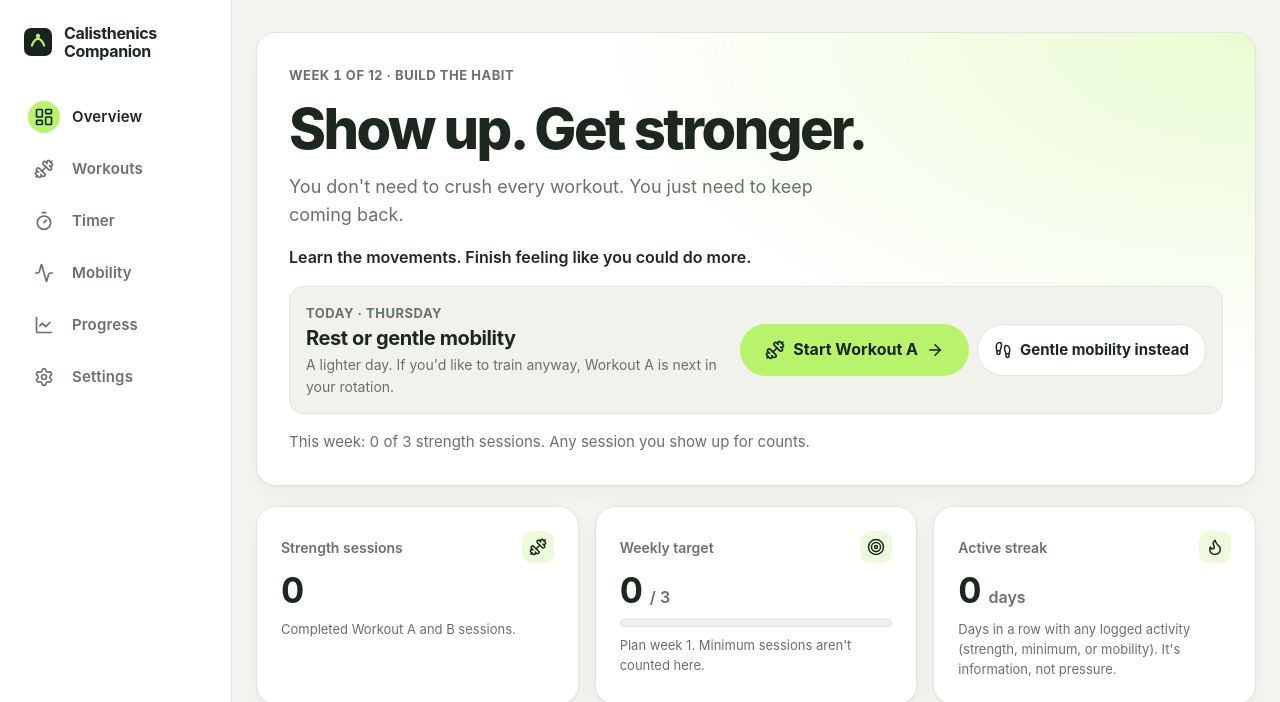
Calisthenics Companion app › tracks a mobility session separately from strength
Click the link "Mobility".
click(83, 273)  # box [34,263,132,283]
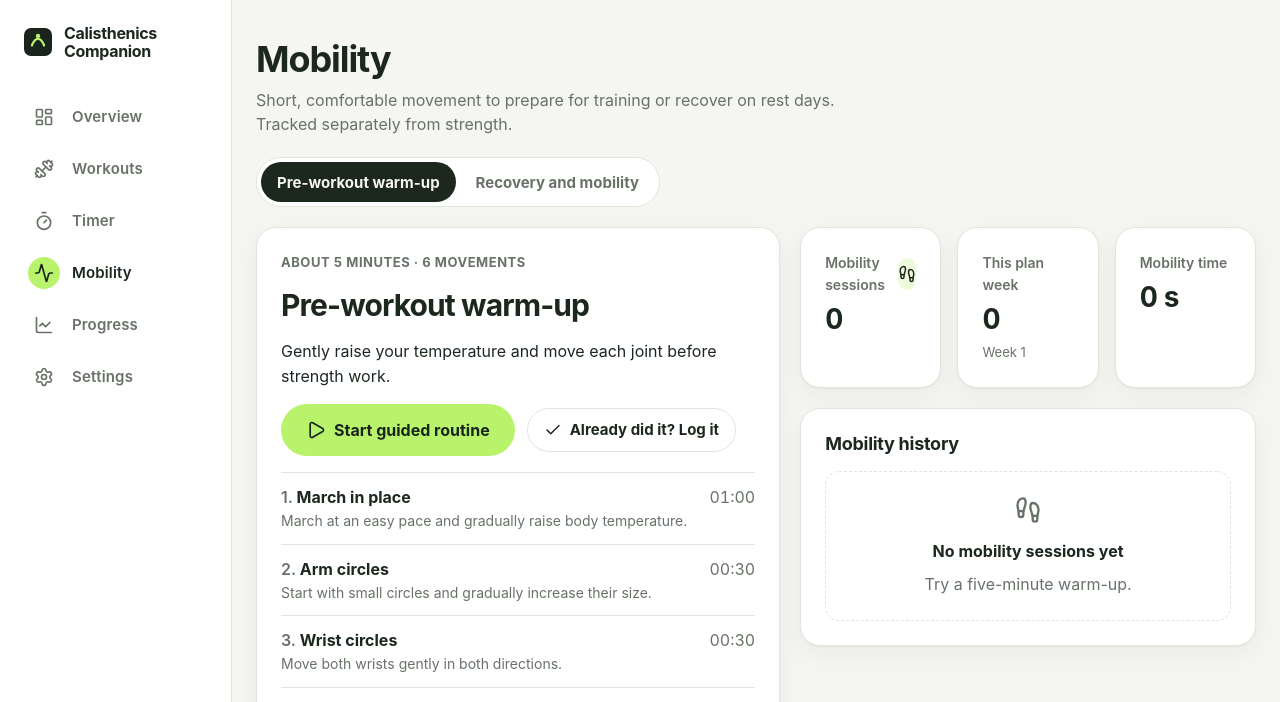
expect the text "No mobility sessions yet" is shown: met, box [933,539,1124,564]
Click the button "Already did it? Log it".
click(631, 430)  # box [527,408,736,452]
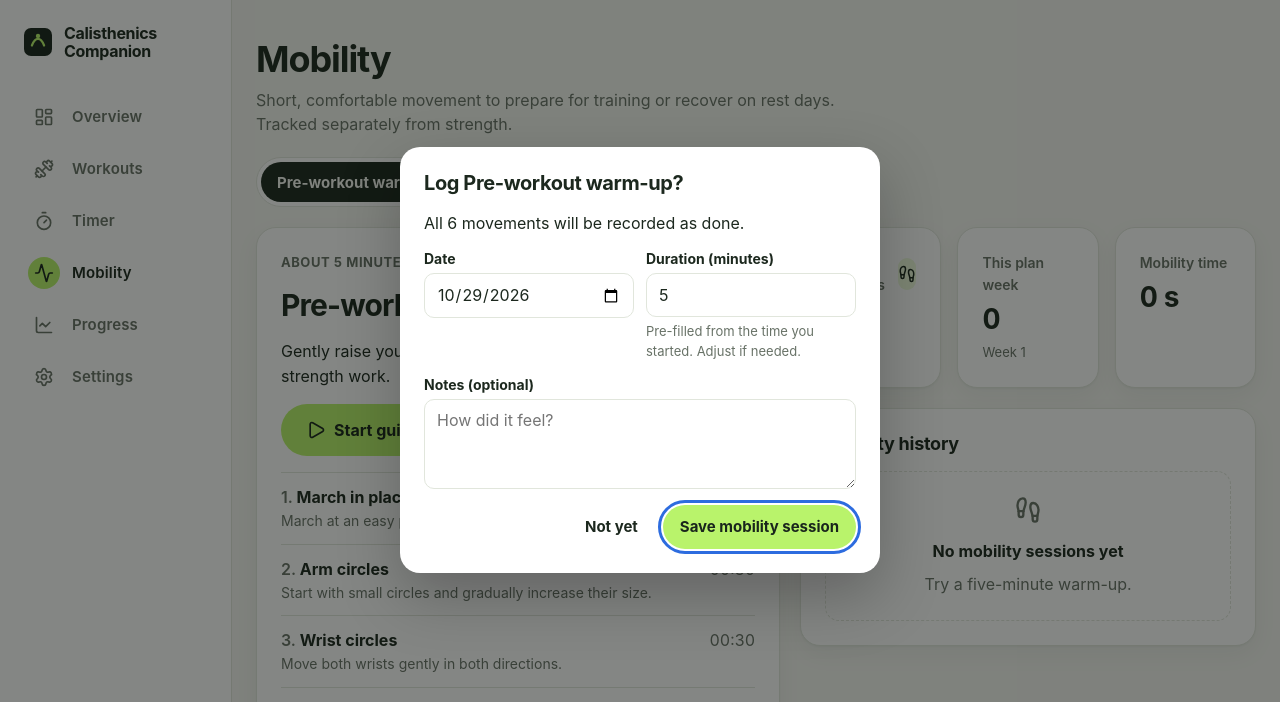
Click the button "Save mobility session".
click(759, 527)  # box [663,505,856,549]
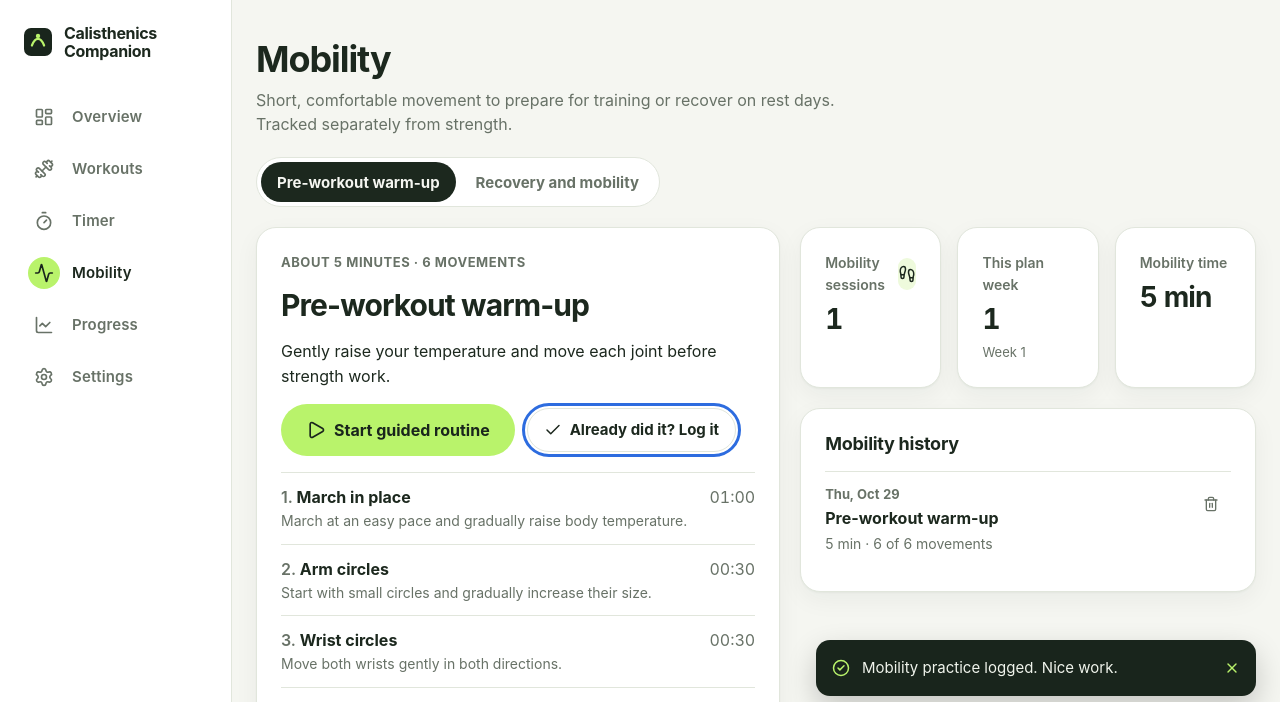
expect the text "Mobility practice logged. Nice work." is shown: met, box [862,658,1118,677]
